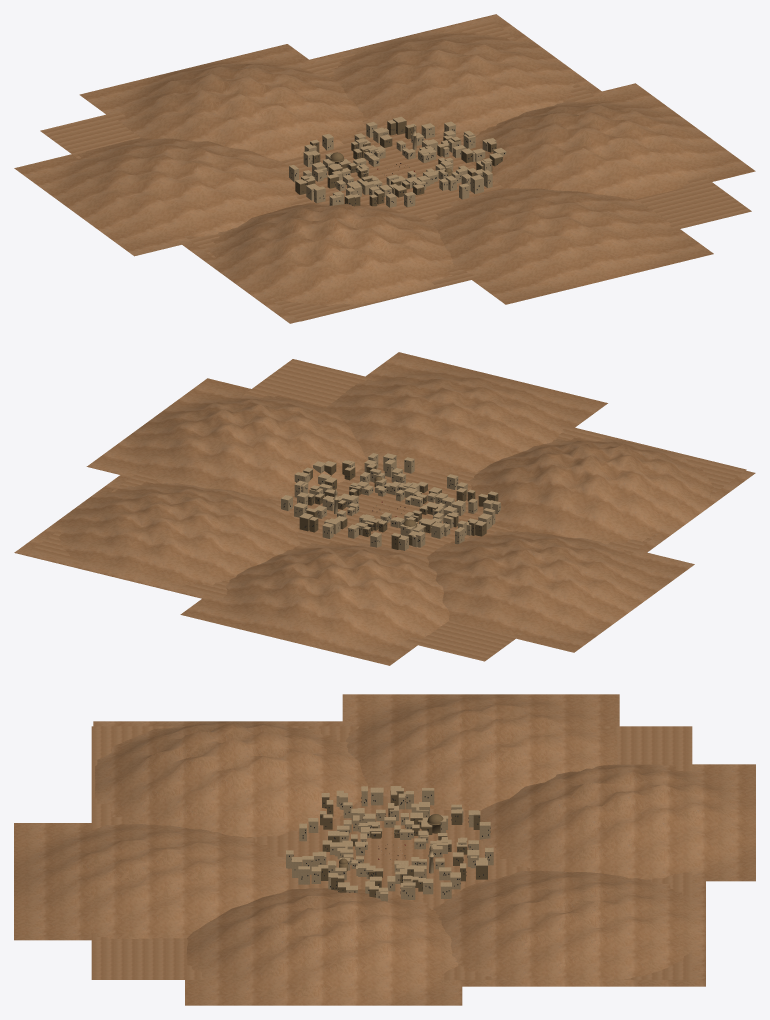
The model's file is han_cevre.glb.
3 views of the same model, one above another, from view 1: azimuth 30°, elevation 25°; view 2: azimuth 150°, elevation 25°; view 3: azimuth 270°, elevation 25° (orthographic). The views are drawn at different scales.
Visible parts, largest first — view 1: K_tepe1, K_tepe3, K_tepe2, K_tepe0, K_tepe5, K_tepe4, K_zemin, K_ev, K_evs, K_pen; view 2: K_tepe4, K_tepe3, K_tepe5, K_tepe1, K_tepe2, K_tepe0, K_zemin, K_ev, K_evs, K_pen; view 3: K_tepe0, K_tepe4, K_tepe1, K_tepe5, K_tepe2, K_tepe3, K_zemin, K_ev, K_evs, K_pen.
Boxes of the visible parts, x1,y1,x2,y2 form: K_tepe1: (428,188,713,304); K_tepe3: (14,138,300,256); K_tepe2: (176,202,457,323); K_tepe0: (470,83,755,199); K_tepe5: (291,14,615,133); K_tepe4: (79,44,367,161); K_zemin: (40,20,751,321); K_ev: (289,116,506,207); K_evs: (295,119,502,206); K_pen: (290,127,504,205); K_tepe4: (180,542,449,665); K_tepe3: (426,530,694,652); K_tepe5: (14,465,300,603); K_tepe1: (326,352,607,474); K_tepe2: (467,437,755,555); K_tepe0: (86,378,367,499); K_zemin: (31,359,746,661); K_ev: (281,453,500,550); K_evs: (299,463,498,549); K_pen: (283,457,500,544); K_tepe0: (185,888,462,1005); K_tepe4: (480,764,755,881); K_tepe1: (14,823,289,940); K_tepe5: (433,870,705,986); K_tepe2: (93,721,368,837); K_tepe3: (342,694,619,810); K_zemin: (91,726,692,979); K_ev: (286,786,493,901); K_evs: (320,791,487,897); K_pen: (289,794,490,897).
Bounding box in the file's own units: 637 × 40 × 642.
17 materials, 16 textured.
